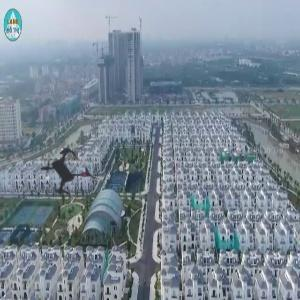drone: (9, 119, 121, 231)
